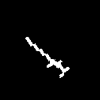double_crochet: (26, 37, 68, 77)
